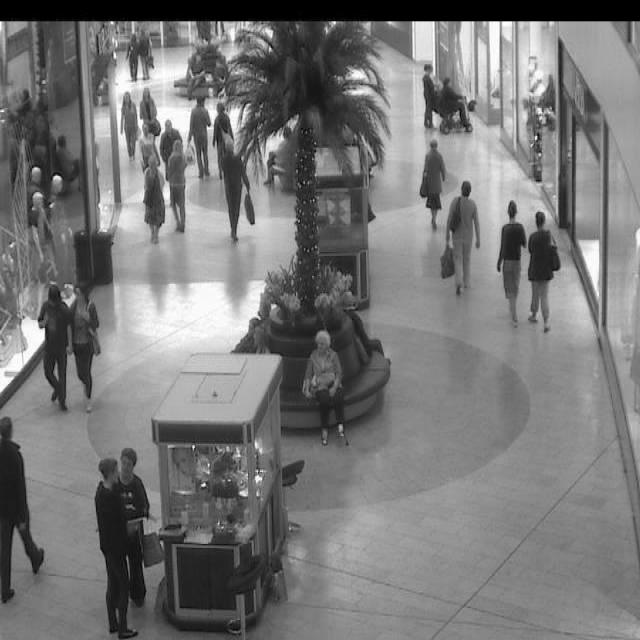person: (95, 448, 154, 640), (0, 419, 46, 605), (118, 448, 156, 599), (214, 106, 255, 242), (302, 331, 344, 449), (66, 284, 102, 412), (36, 285, 70, 412), (444, 179, 482, 292), (494, 201, 528, 323), (526, 214, 560, 329), (164, 131, 192, 233), (439, 78, 482, 142), (420, 140, 448, 229), (186, 99, 213, 180), (122, 92, 140, 160), (421, 67, 440, 128), (138, 85, 160, 132), (246, 324, 272, 361), (124, 28, 140, 83), (140, 27, 156, 80), (245, 307, 258, 357)
